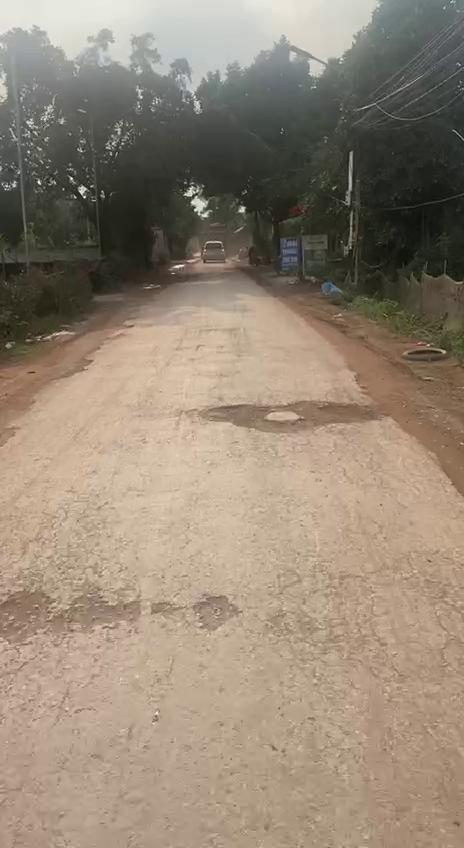pothole: (0, 574, 145, 653), (199, 394, 378, 436)
